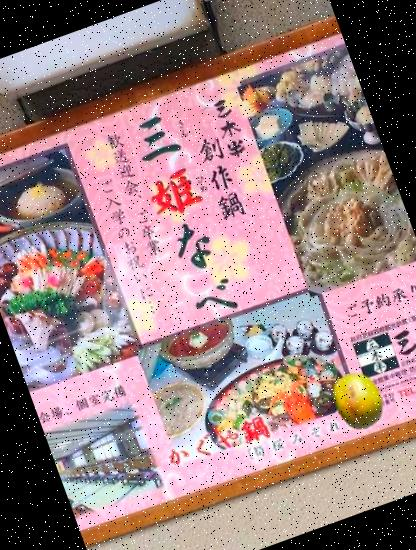Pomelo: (320, 362, 396, 438)
